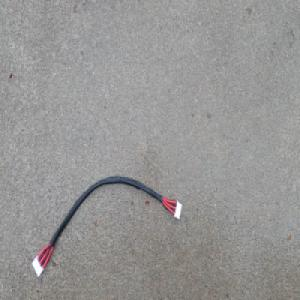Wire: (30, 173, 182, 277)
